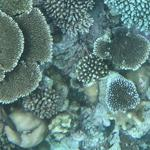alive: (1, 1, 149, 149)
